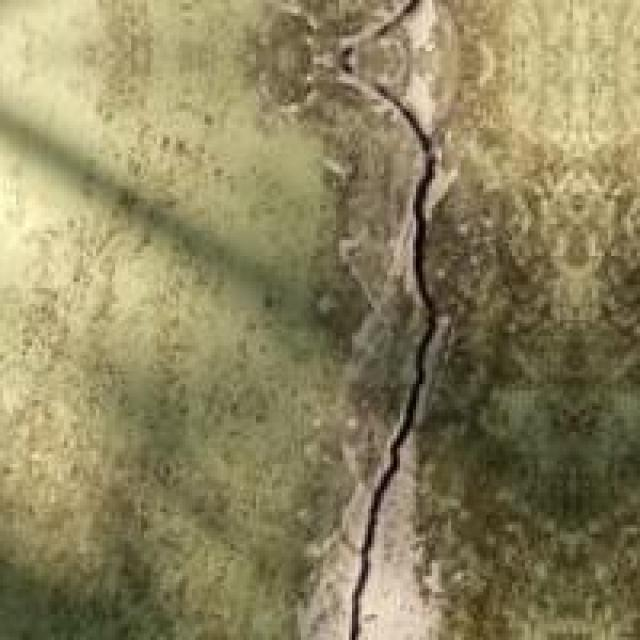crack: (272, 0, 554, 637)
